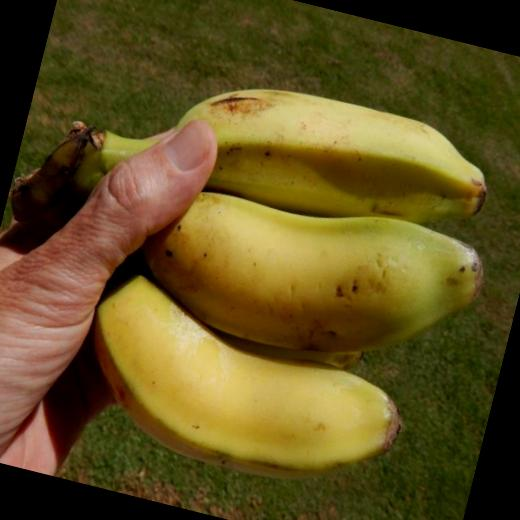Banana: (60, 141, 494, 394), (91, 46, 497, 264), (68, 264, 422, 510)
